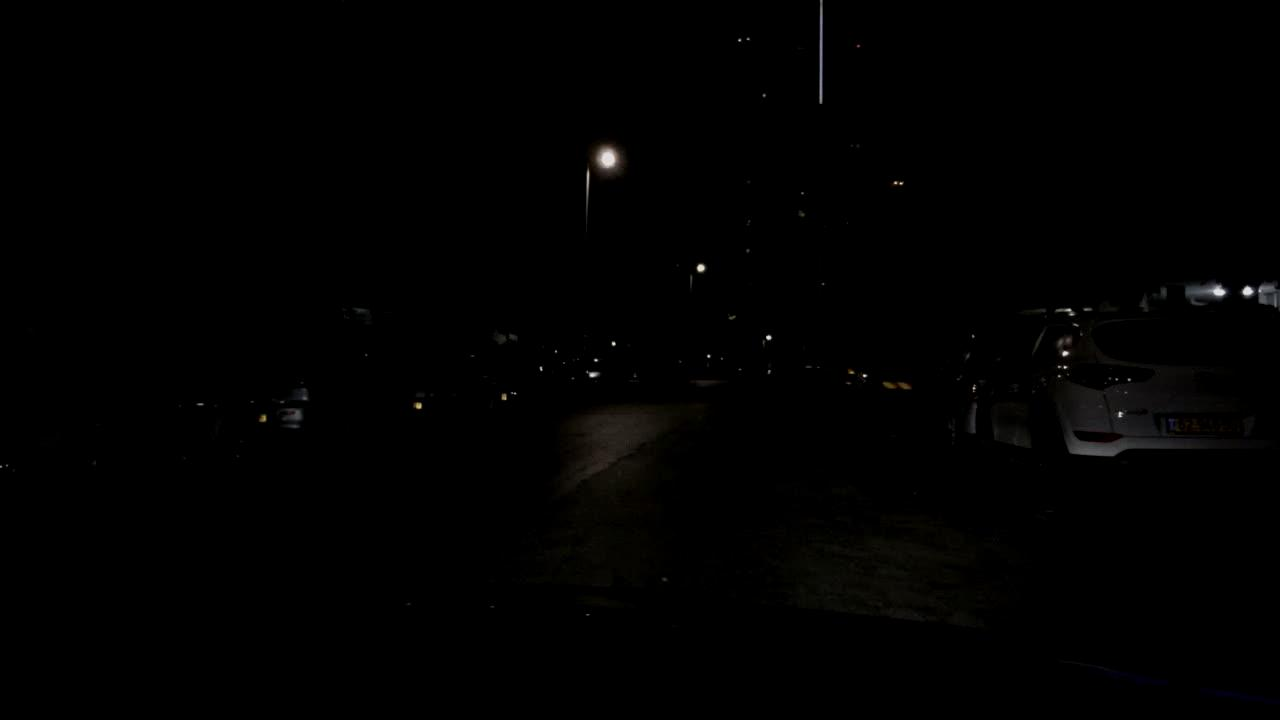Hyundai: (1197, 366, 1220, 387)
